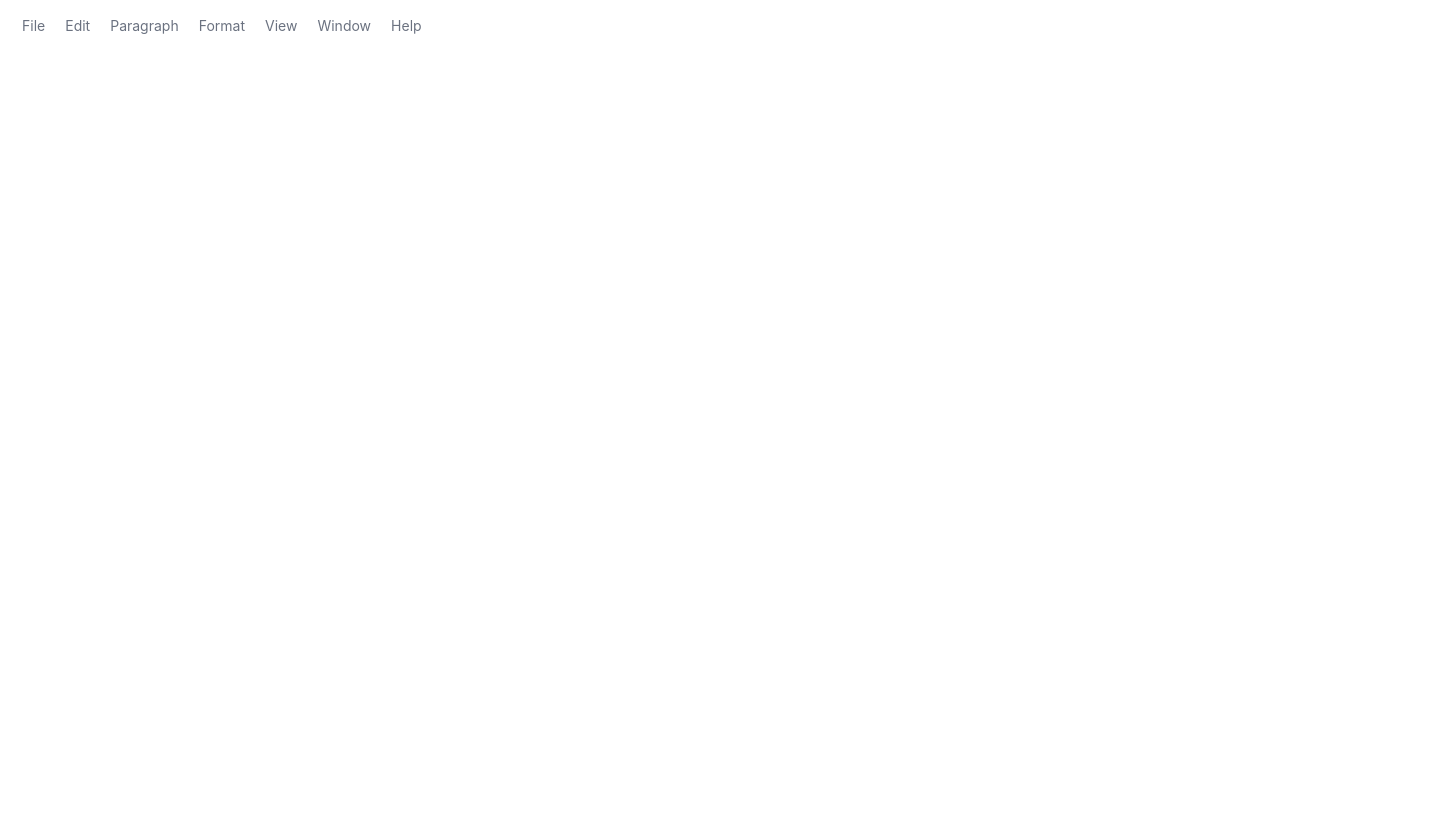
Test case: MenuBar › Escape / 外部点击关闭
This screenshot has width=1452, height=822.
Click the button "View": (281, 26) [255, 12, 307, 40]
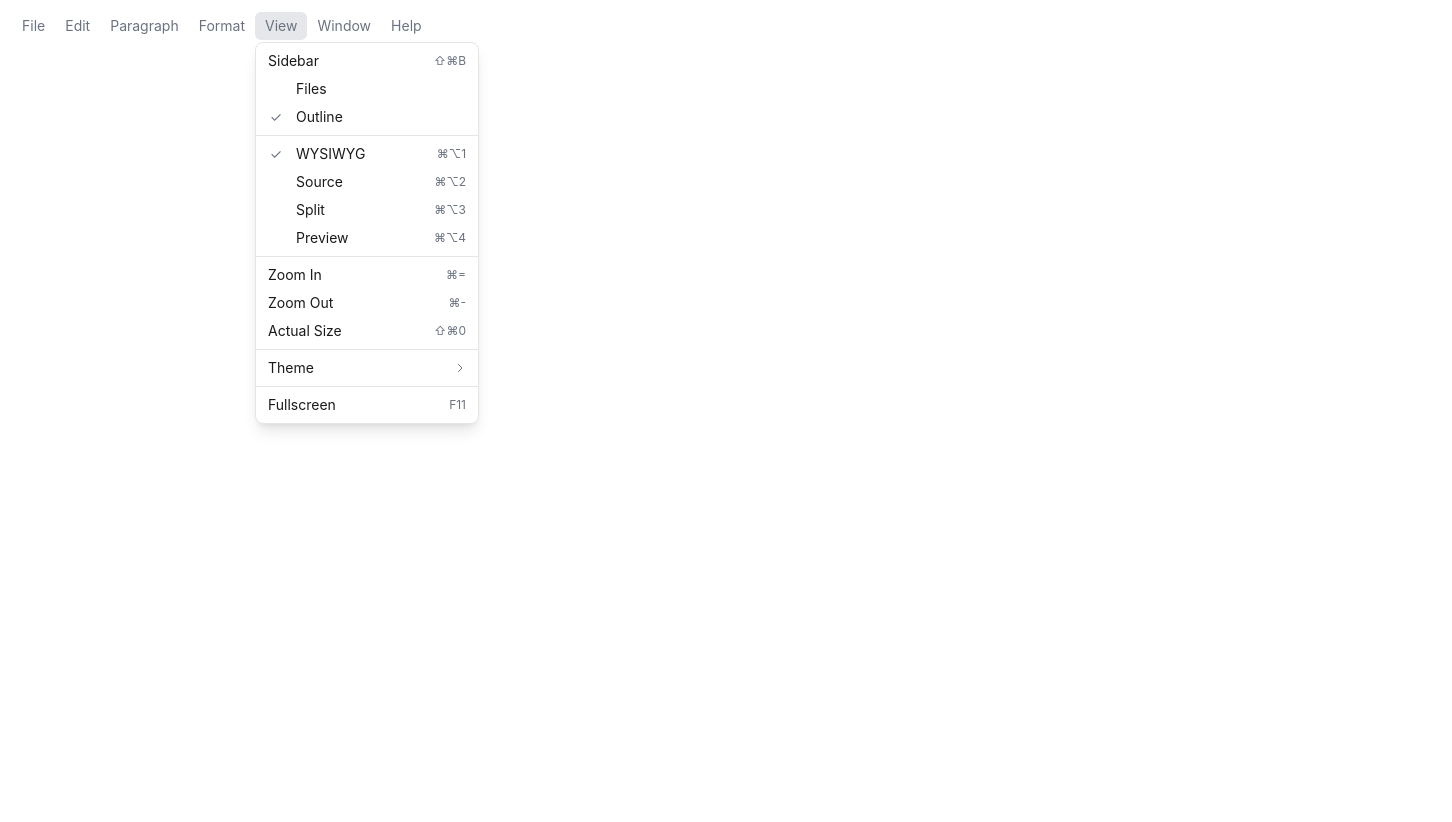
Press Escape
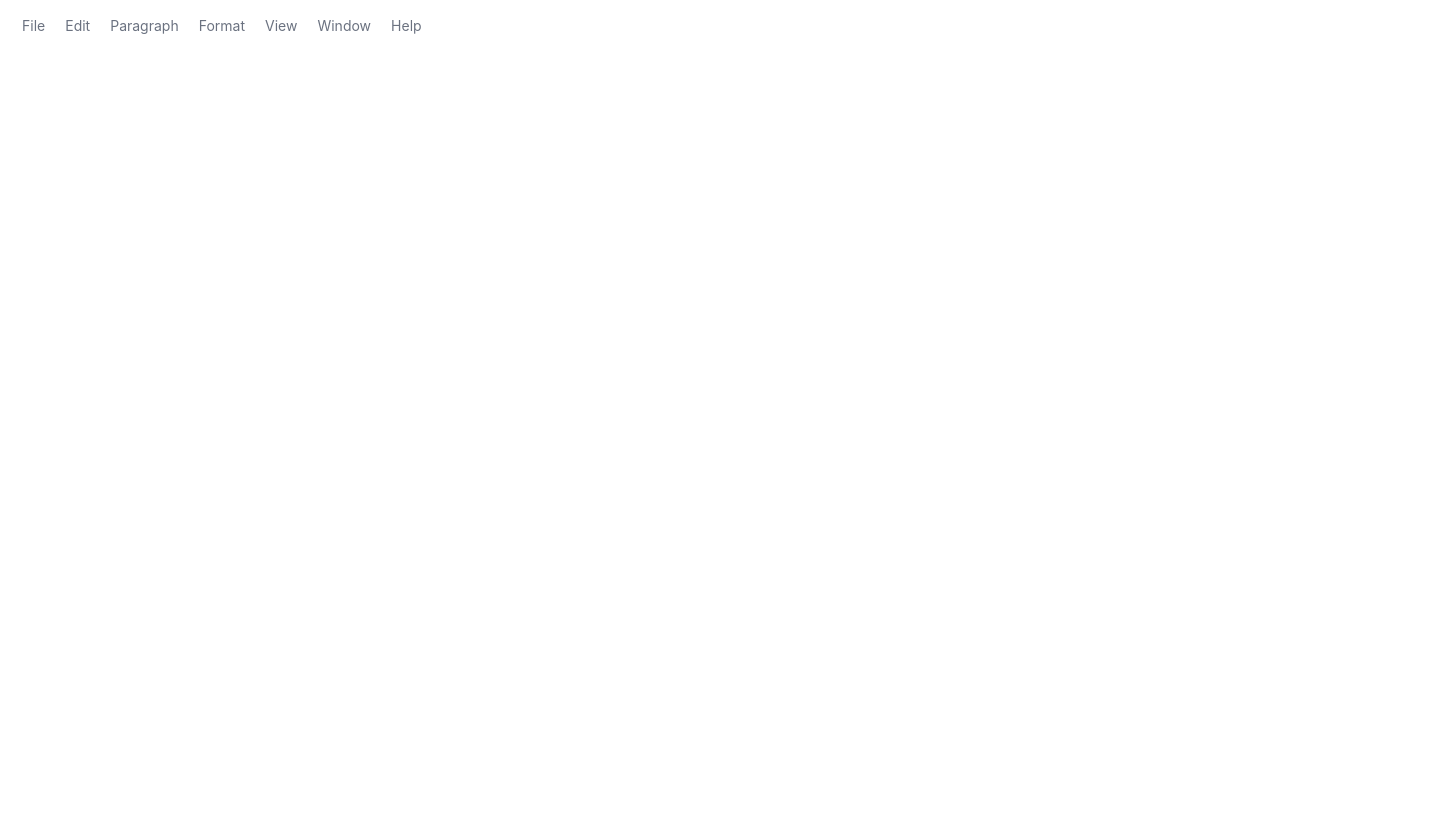
Now the menu is gone
Click the button "View": (281, 26) [255, 12, 307, 40]
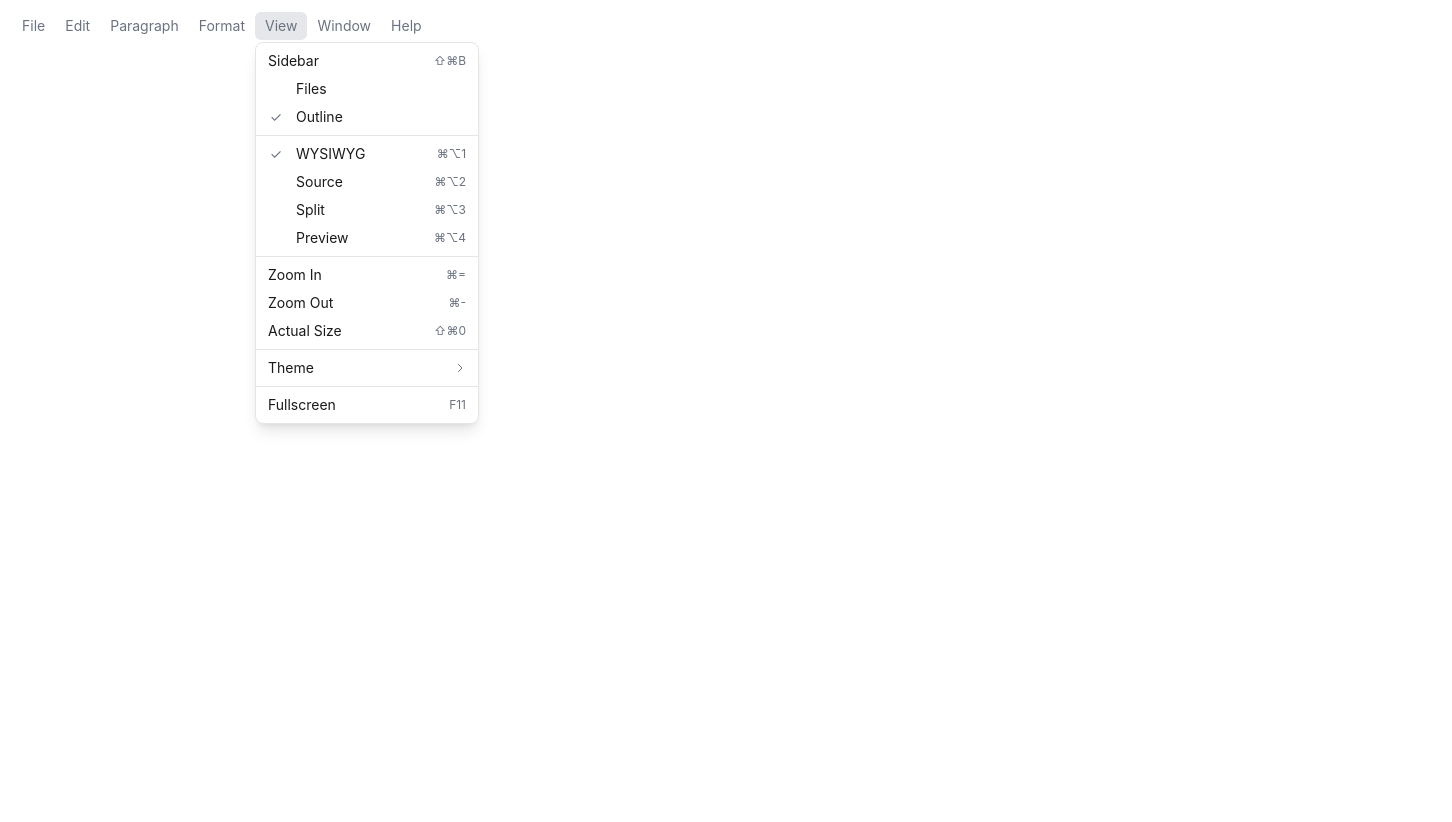
Press the mouse on the element that starts with "File": (732, 417) [12, 12, 1451, 821]
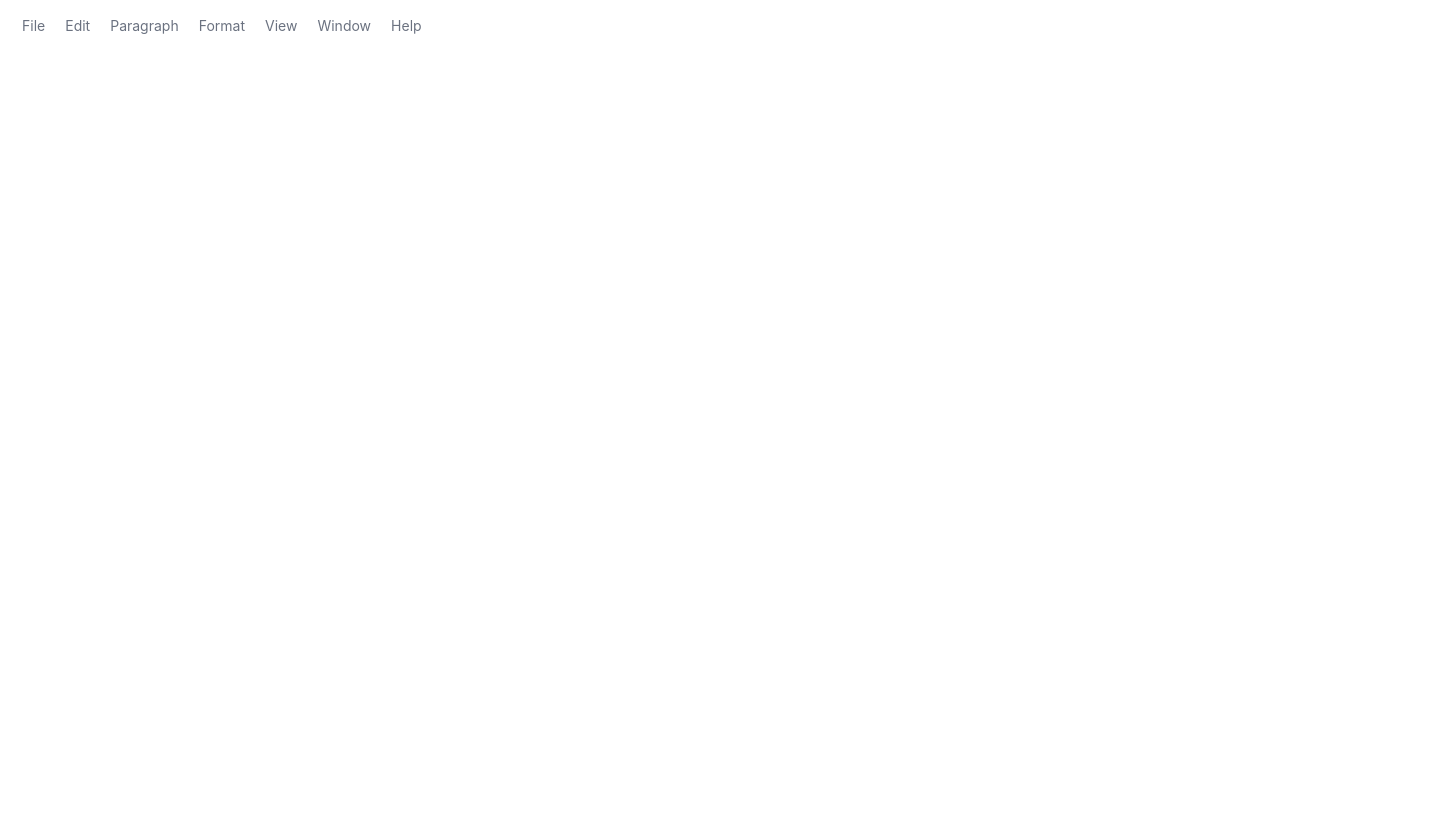
Now the menu is gone
